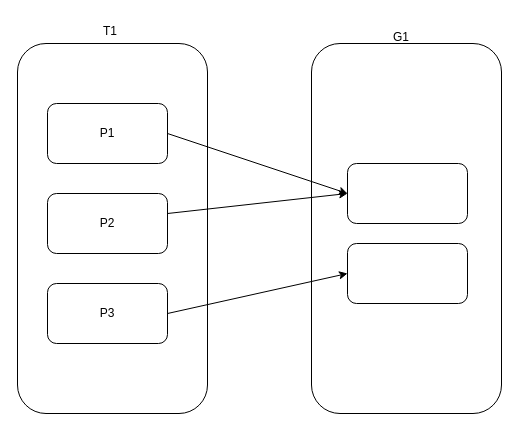
The diagram is 519 pixels wide and 431 high, and some of its shapes have lost their labels. The box of each missing label's shape, as (x1, y1, x2, y2) in pixels:
C1: (346, 162, 468, 224)
C2: (346, 242, 468, 304)
